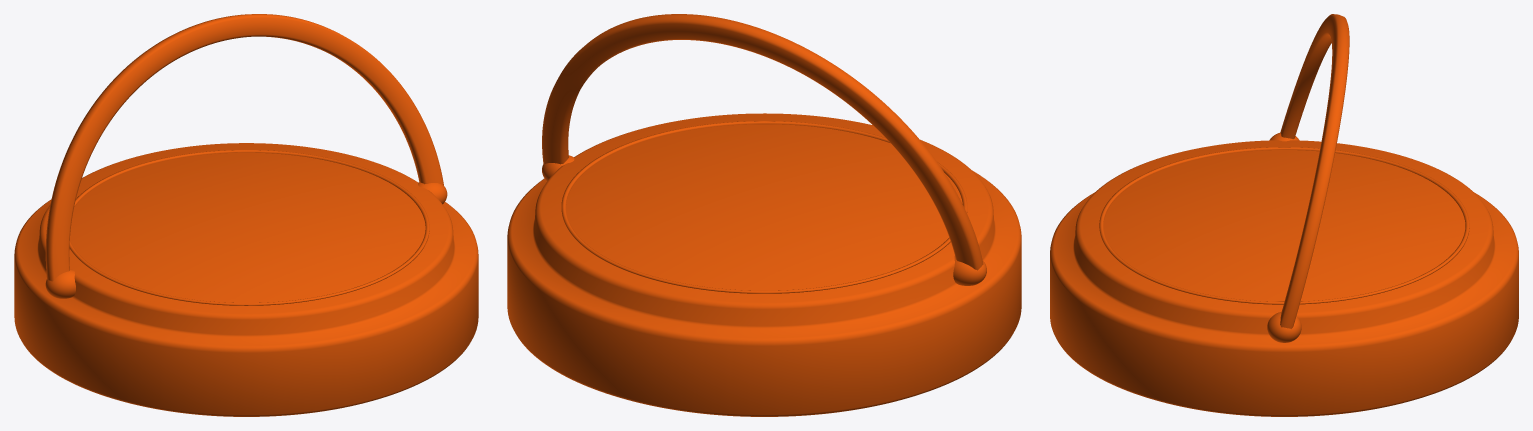
Rendered from case-39-carry-handle-cap.glb.
The picture shows the model from 3 angles, left to right: view 1: azimuth 30°, elevation 25°; view 2: azimuth 150°, elevation 25°; view 3: azimuth 270°, elevation 25°; orthographic projection. The views are drawn at different scales.
Parts seen in each view (by area): view 1: Cap shell smooth skirt and raised top; view 2: Cap shell smooth skirt and raised top; view 3: Cap shell smooth skirt and raised top.
Boxes of the visible parts, x1=… form: Cap shell smooth skirt and raised top: x1=14, y1=14, x2=478, y2=416; Cap shell smooth skirt and raised top: x1=507, y1=14, x2=1021, y2=416; Cap shell smooth skirt and raised top: x1=1050, y1=14, x2=1518, y2=416.
Bounding box in the file's own units: 0.114 × 0.0761 × 0.114.
